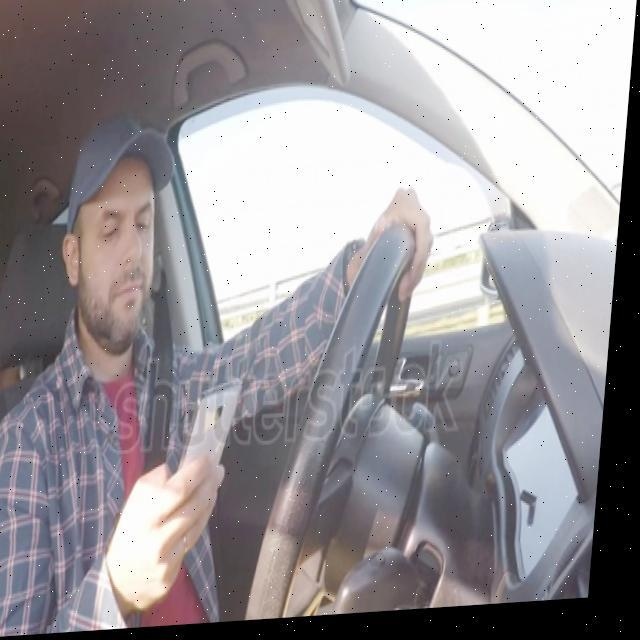PhoneCall: (187, 380, 250, 512)
